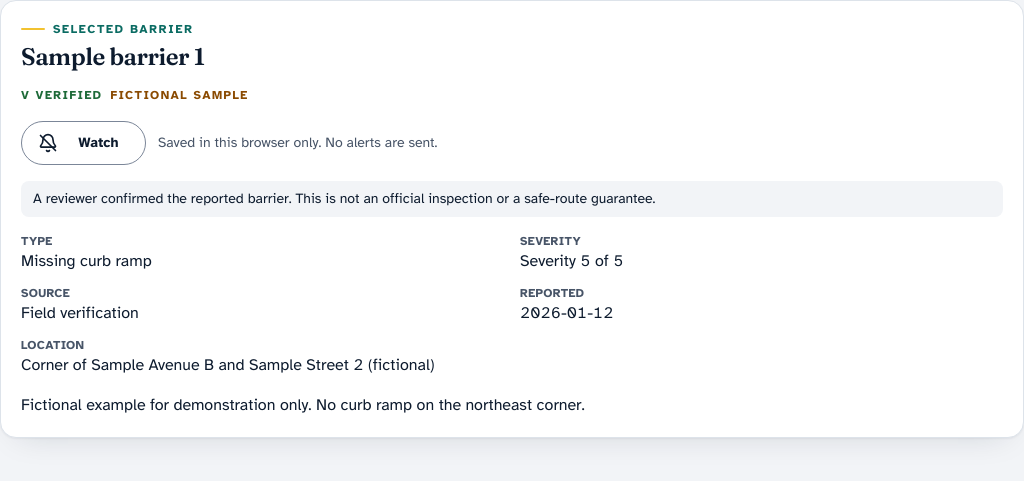
it: BarrierDetails watch toggle › keeps the toggle off and explains when the browser cannot save
The width and height of the screenshot is (1024, 481).
Step 1. Click the button named "Watch this barrier" → click(83, 143), box [21,121,146,165]
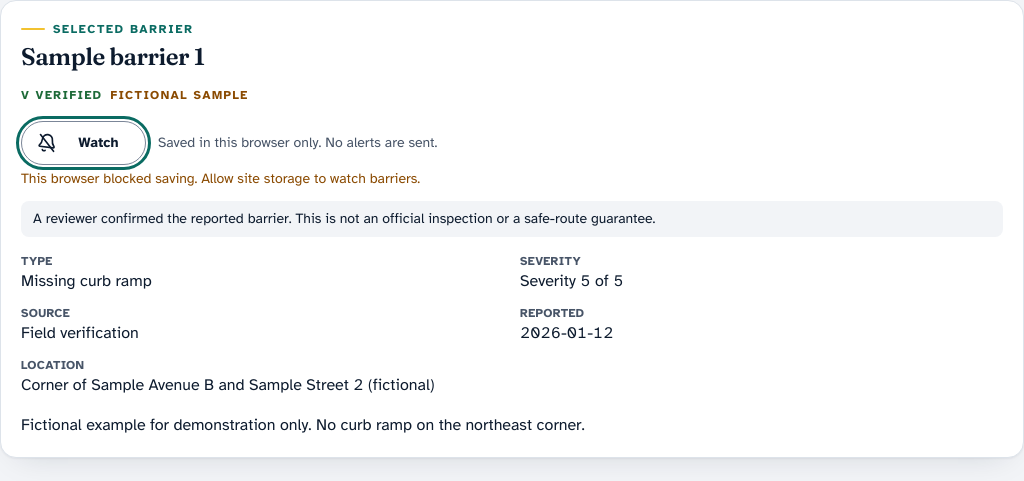
Expected: the message reads "This browser blocked saving. Allow site storage to watch barriers.", [21,170,420,187]
